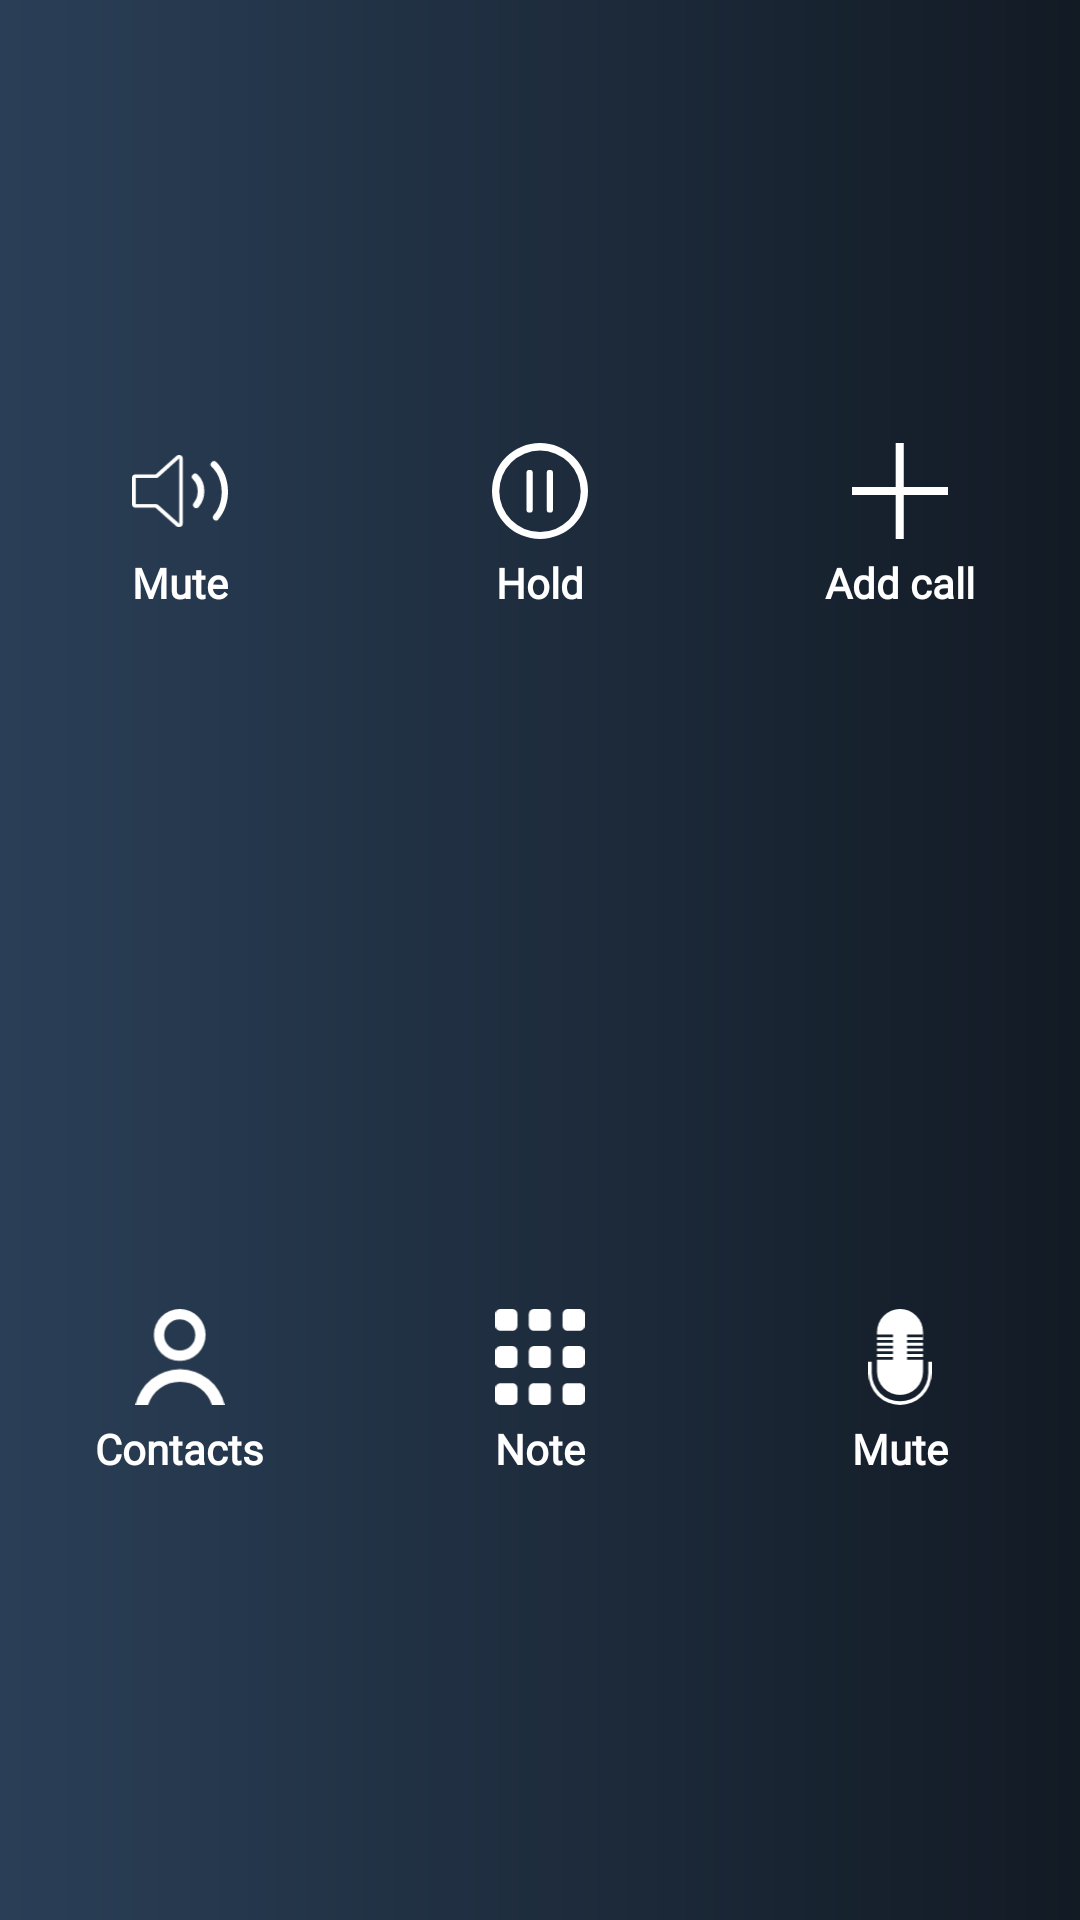

Icons on this 1080px×1920px Android screen, each with its box as {"x1": x1, "y1": y1, "x2": x2, "y2": y2}:
pause: {"x1": 492, "y1": 443, "x2": 588, "y2": 539}
speaker: {"x1": 132, "y1": 455, "x2": 228, "y2": 527}
